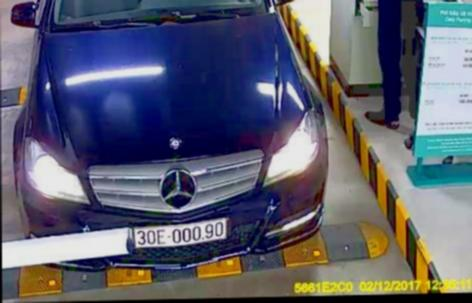License_Plate: (134, 218, 234, 246)
